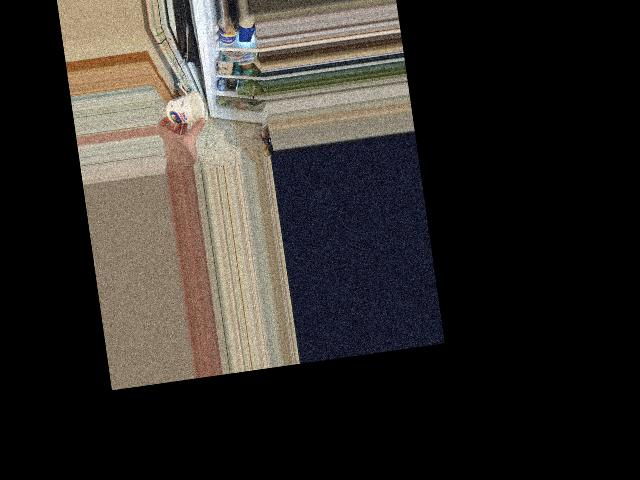cotage: (161, 91, 206, 125)
